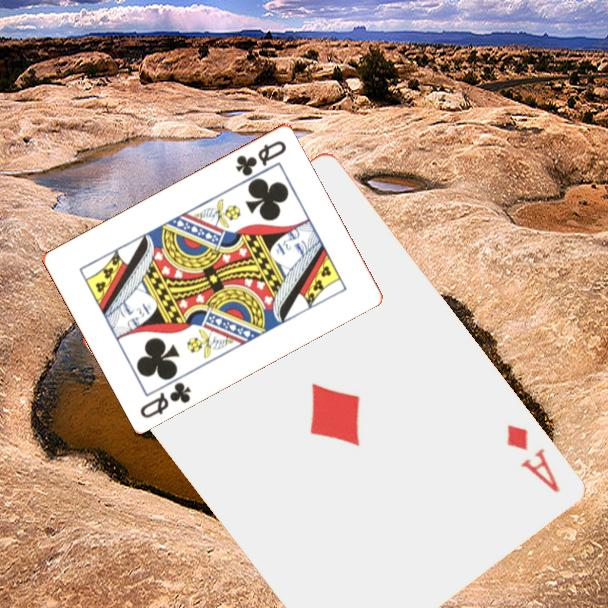c12: (136, 378, 194, 421), (232, 137, 289, 179)
d01: (502, 420, 562, 496)
